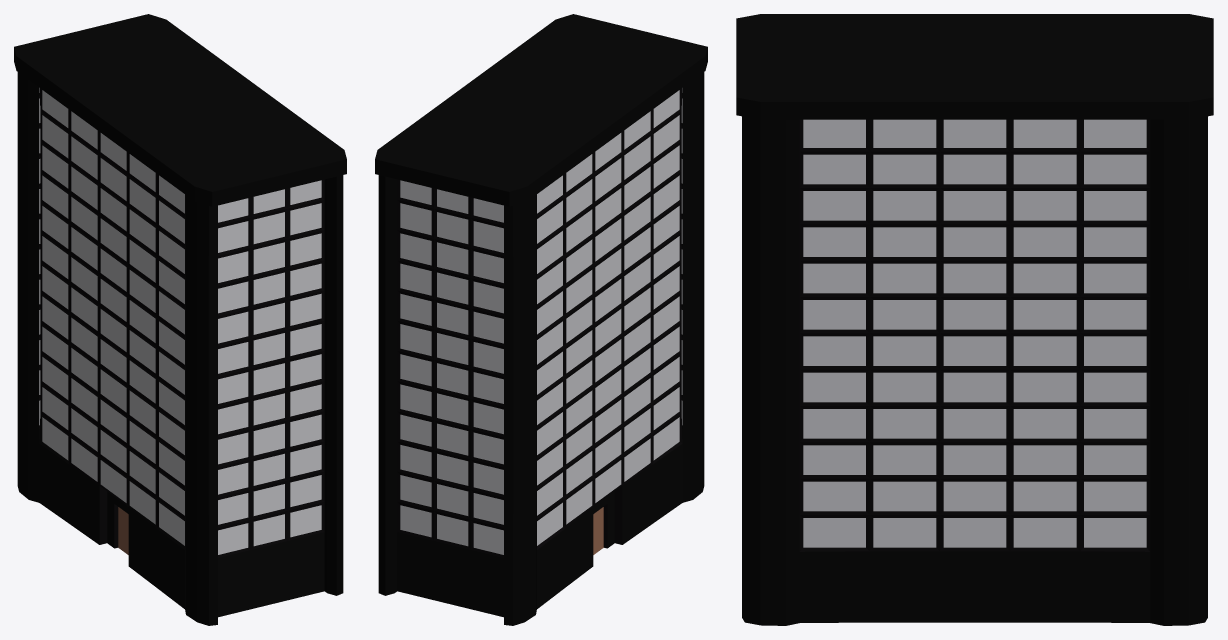
File: skyscraperG.fbx
3 views of the same model, side by side, from view 1: azimuth 30°, elevation 25°; view 2: azimuth 150°, elevation 25°; view 3: azimuth 270°, elevation 25° (orthographic). The views are drawn at different scales.
Parts seen in each view (by area): view 1: SkyscraperG; view 2: SkyscraperG; view 3: SkyscraperG.
Part boxes in pixels (bbox=[...]): SkyscraperG: bbox=[14, 14, 346, 625]; SkyscraperG: bbox=[375, 14, 707, 625]; SkyscraperG: bbox=[736, 14, 1213, 625].
Size of the model in its own units: 784 by 2183 by 1799.
